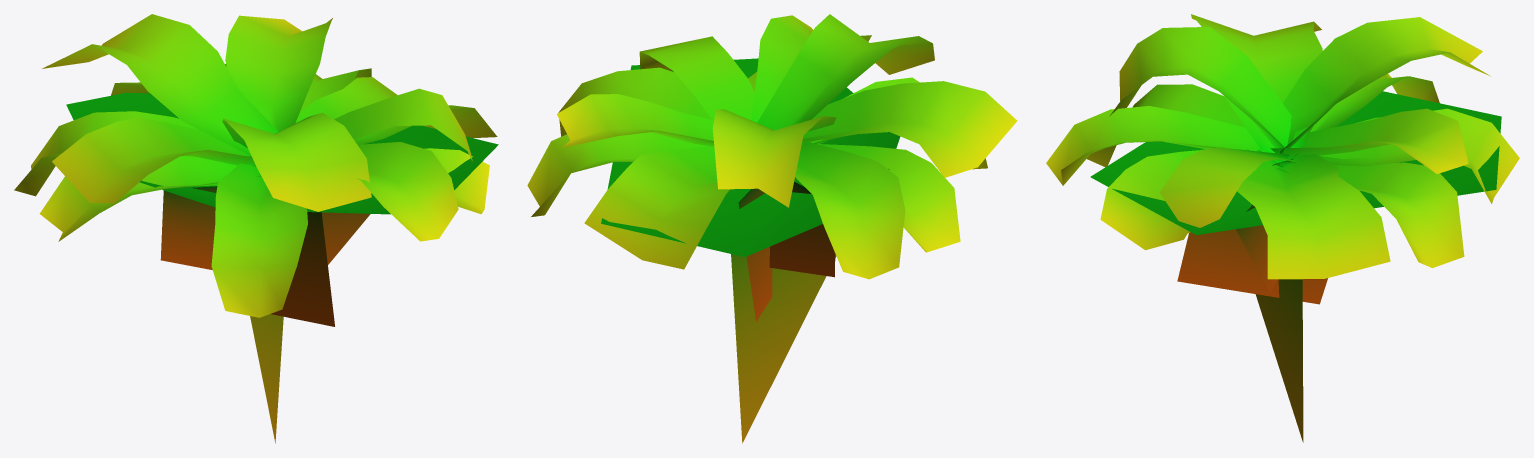
The model's file is sjdlV_Var6_LOD0.fbx.
The picture shows the model from 3 angles, left to right: view 1: azimuth 30°, elevation 25°; view 2: azimuth 150°, elevation 25°; view 3: azimuth 270°, elevation 25°; orthographic projection. The views are drawn at different scales.
Parts seen in each view (by area): view 1: _89bd_Var6_LOD0; view 2: _89bd_Var6_LOD0; view 3: _89bd_Var6_LOD0.
Boxes of the visible parts, bbox=[...] form: _89bd_Var6_LOD0: bbox=[14, 14, 498, 443]; _89bd_Var6_LOD0: bbox=[527, 14, 1017, 443]; _89bd_Var6_LOD0: bbox=[1046, 14, 1519, 442].
Size of the model in its own units: 17.85 by 15.56 by 18.07.
